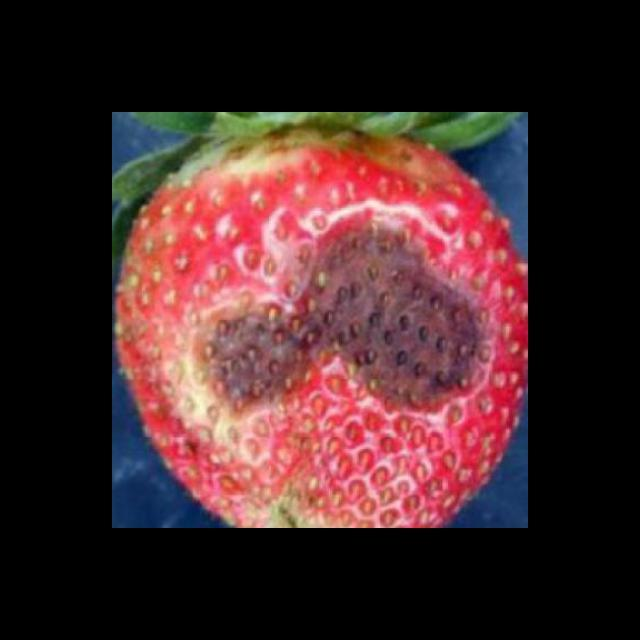Anthracnose Fruit Rot: (183, 204, 496, 424)
